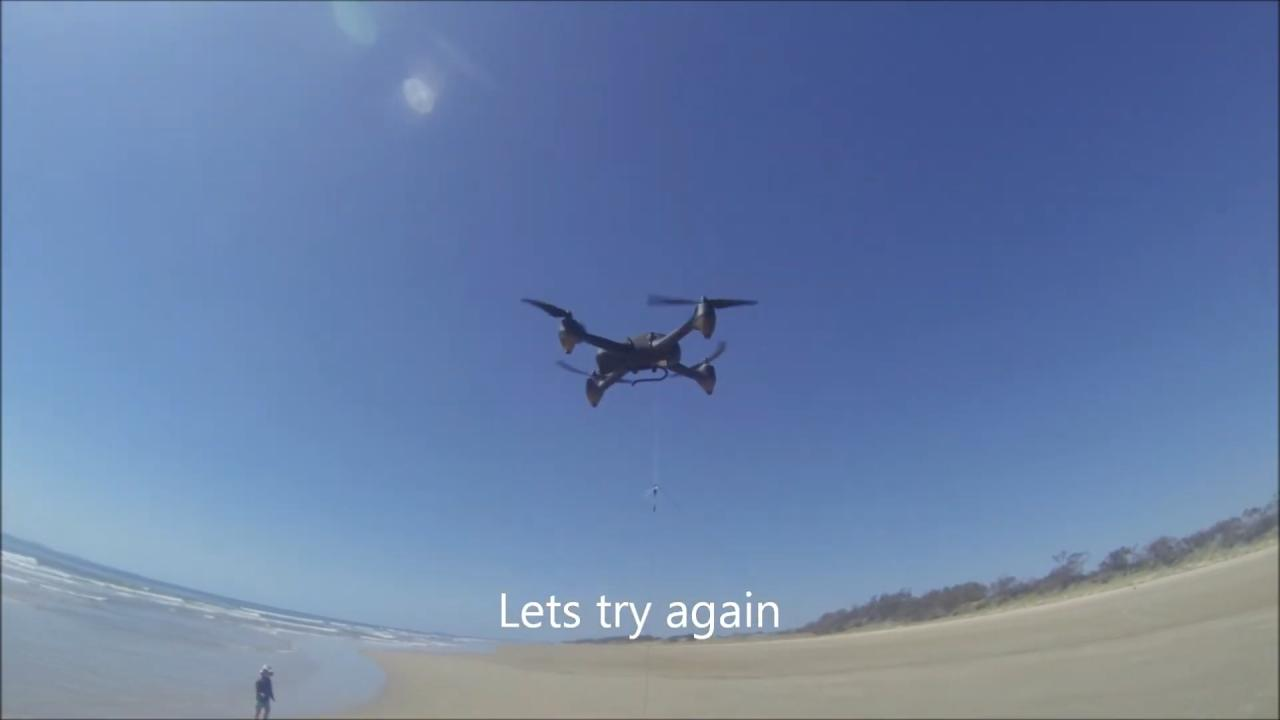Drone: (509, 283, 769, 418)
